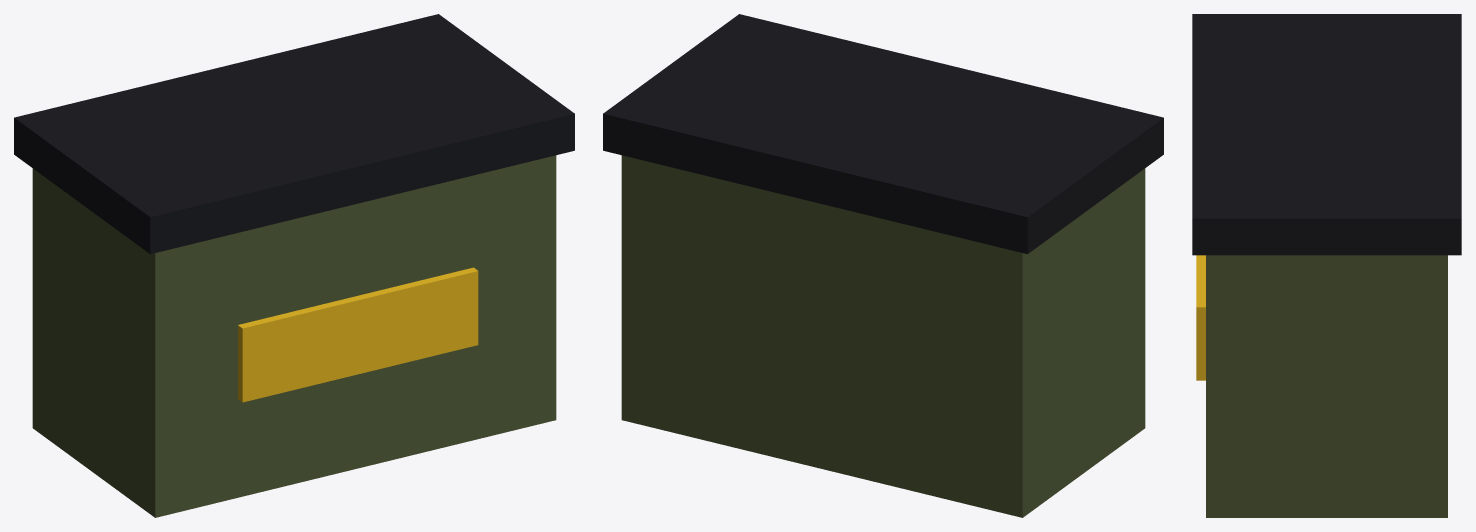
File: pickup_ammo.glb
3 views of the same model, side by side, from view 1: azimuth 30°, elevation 25°; view 2: azimuth 150°, elevation 25°; view 3: azimuth 270°, elevation 25° (orthographic).
Parts seen in each view (by area): view 1: pickup_ammo_Body; view 2: pickup_ammo_Body; view 3: pickup_ammo_Body.
Boxes of the visible parts, x1,y1,x2,y2 form: pickup_ammo_Body: (14,14,574,517); pickup_ammo_Body: (603,14,1163,517); pickup_ammo_Body: (1192,14,1461,517).
Size of the model in its own units: 0.36 by 0.25 by 0.2.
